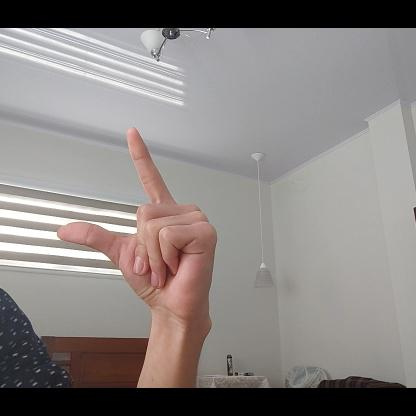L: (54, 125, 218, 318)
